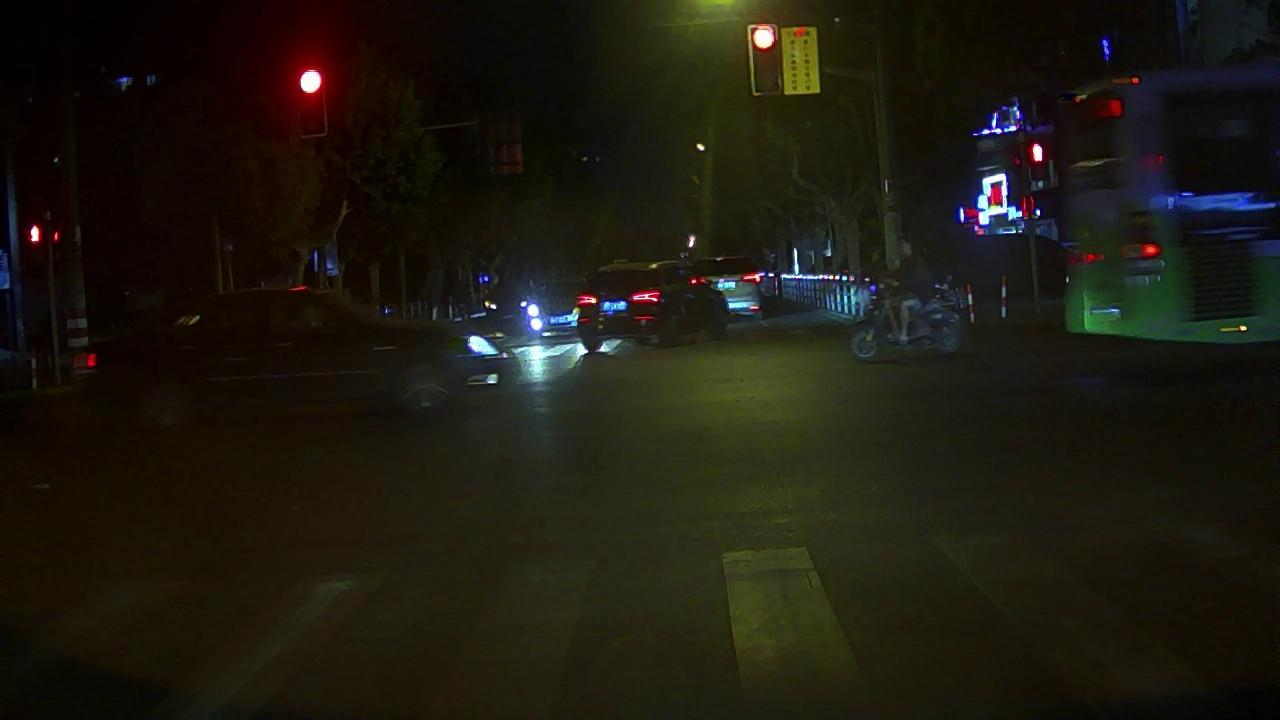traffic_light: (750, 18, 785, 94), (295, 61, 324, 133)
